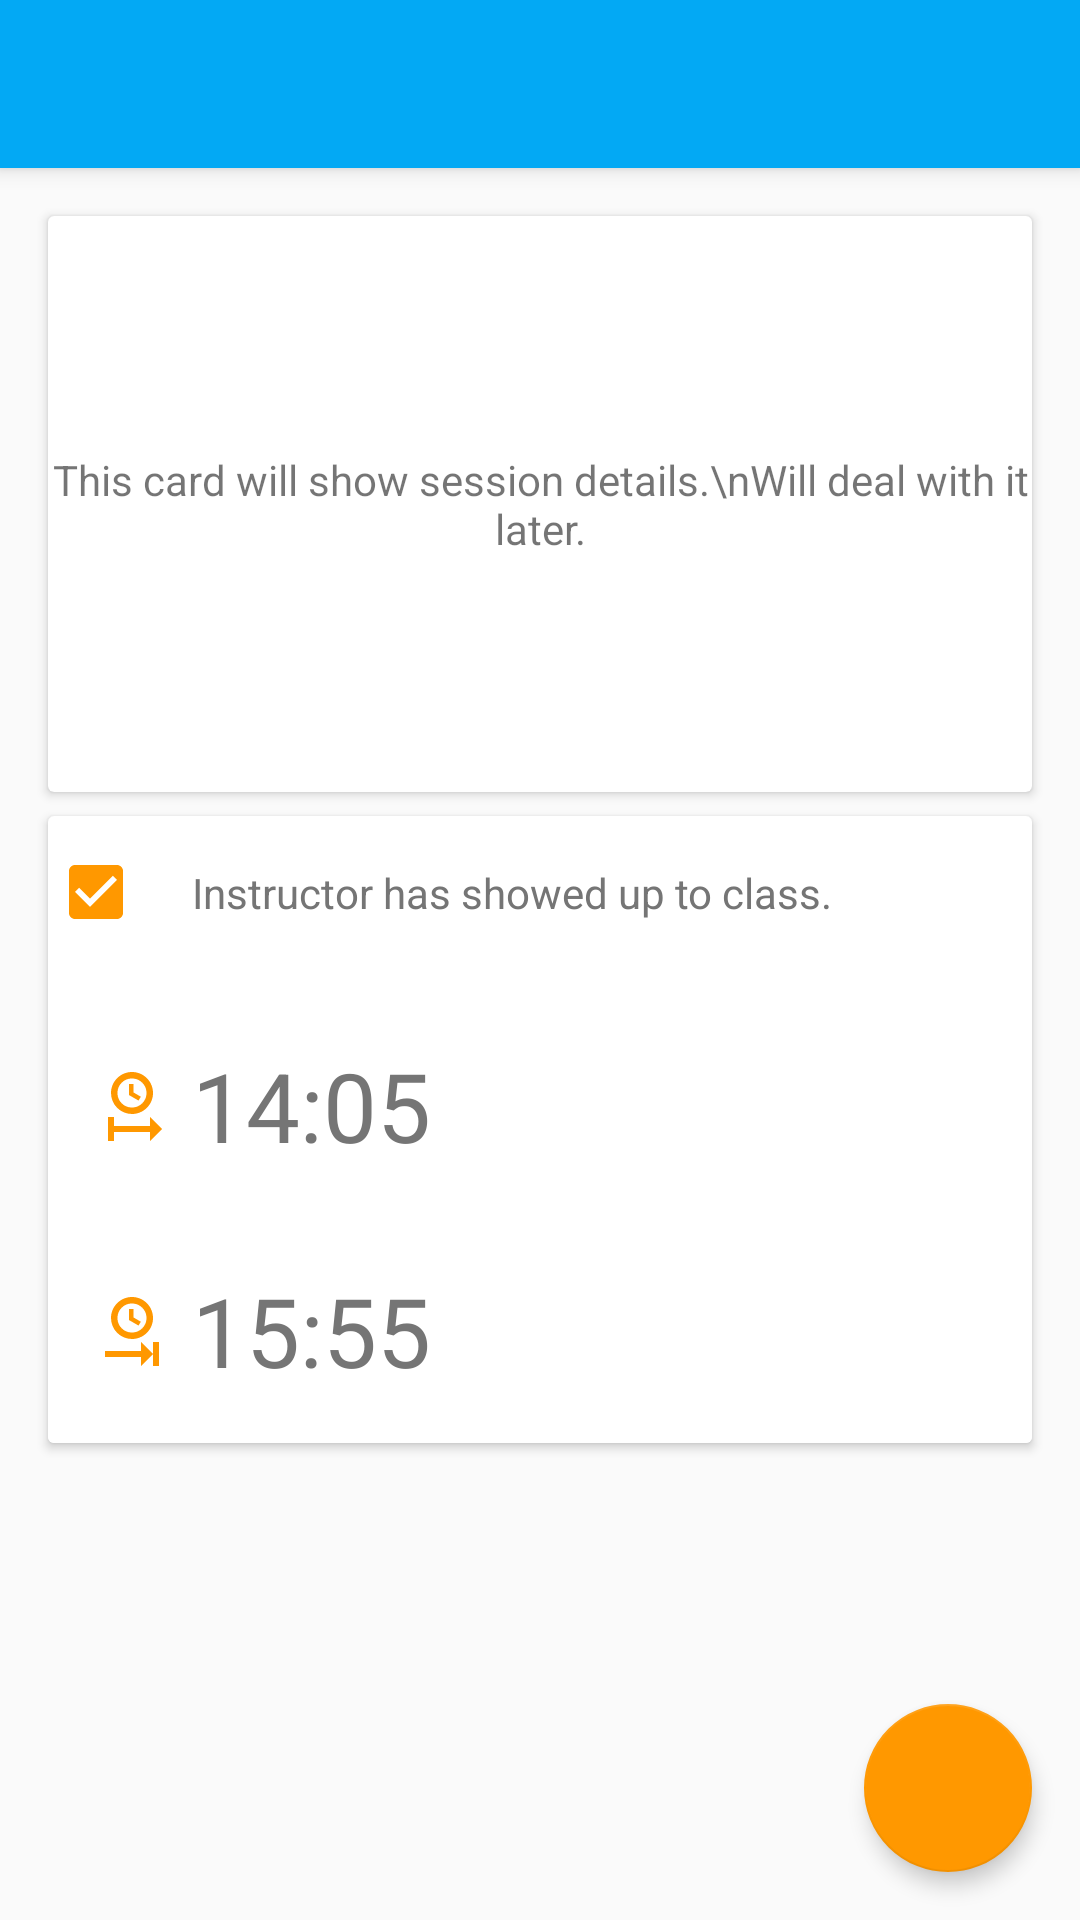

Where icons sit on this 1080×1920 app screen, as (x1, y1, x2, y2):
clock end: (105, 1297, 159, 1366)
clock start: (108, 1072, 162, 1141)
